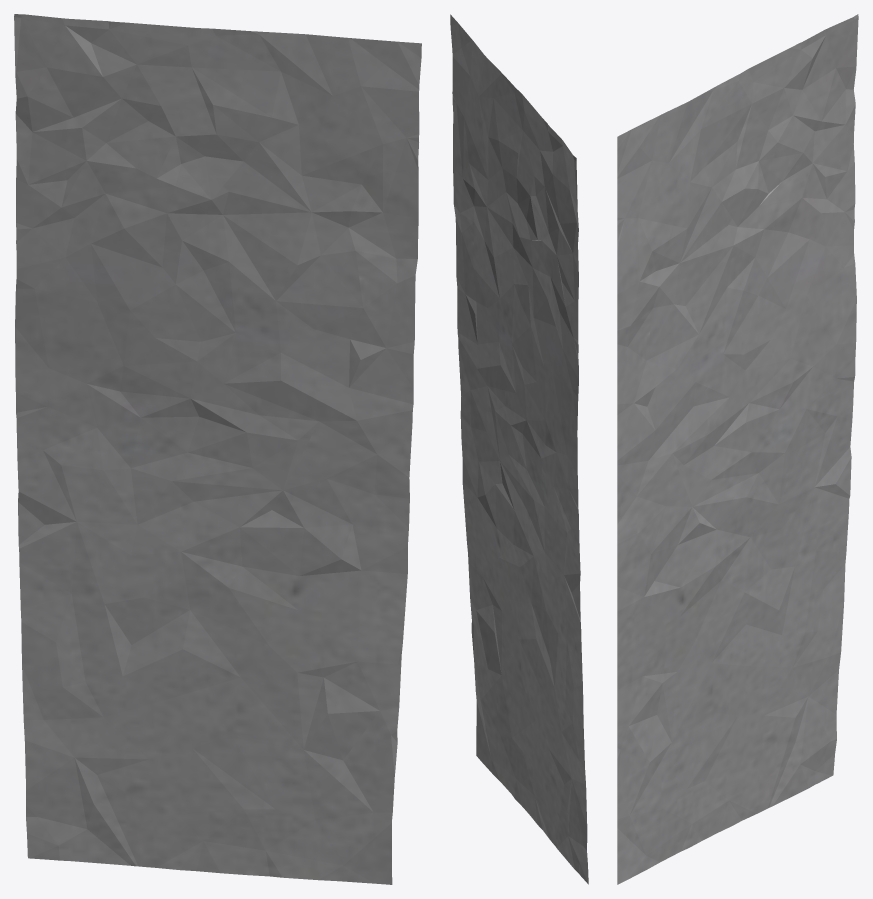
3 views of the same model, side by side, from view 1: azimuth 30°, elevation 25°; view 2: azimuth 150°, elevation 25°; view 3: azimuth 270°, elevation 25° (orthographic). The views are drawn at different scales.
Size of the model in its own units: 0.2895 by 0.8374 by 0.2404.
1 material, 1 textured.
